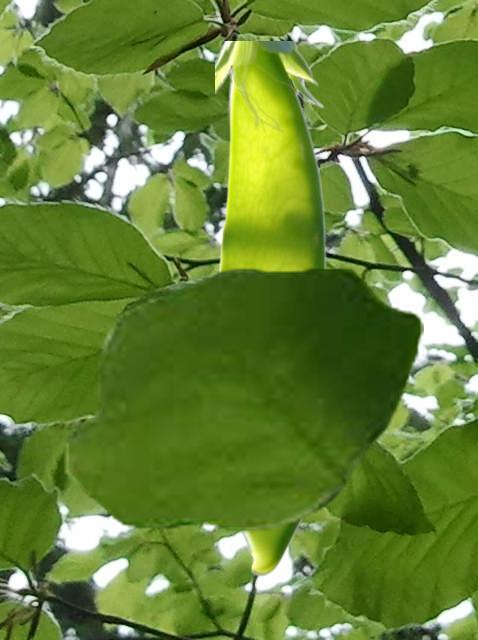pea: (215, 41, 328, 576)
